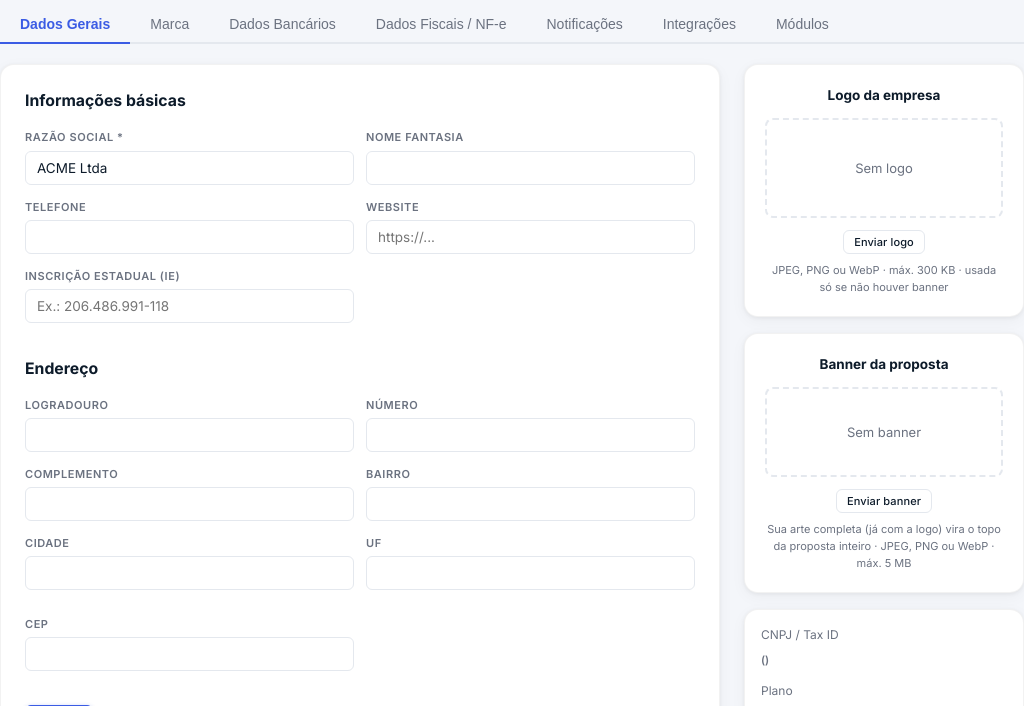
Scenario: CompanyPage — indicador de credencial já configurada + definir como padrão › mostra o indicador "já configurado" pros 3 campos sensíveis, sem vazar o valor mascarado no campo editável
Expected: the field showing "ACME Ltda" below "Razão Social" is shown, [25,150,354,184]
Step 1. Click the button "Dados Bancários" → (282, 25), box [209,6,356,44]
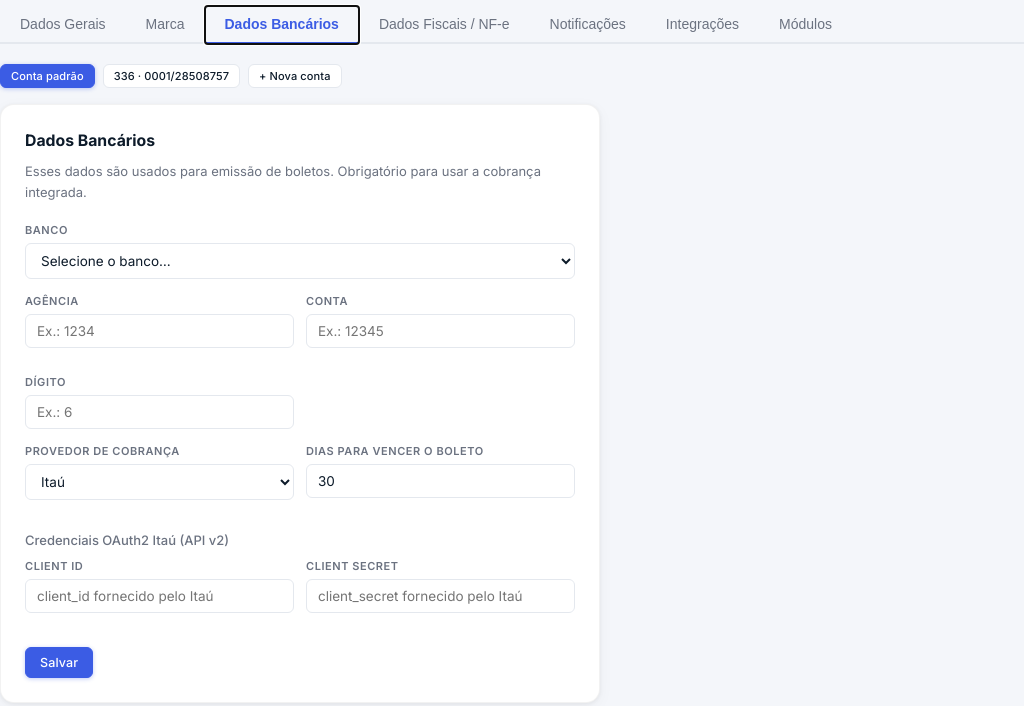
Step 2. Click the button "336 · 0001/28508757" → (171, 76), box [103,64,240,88]
(page scrolled)
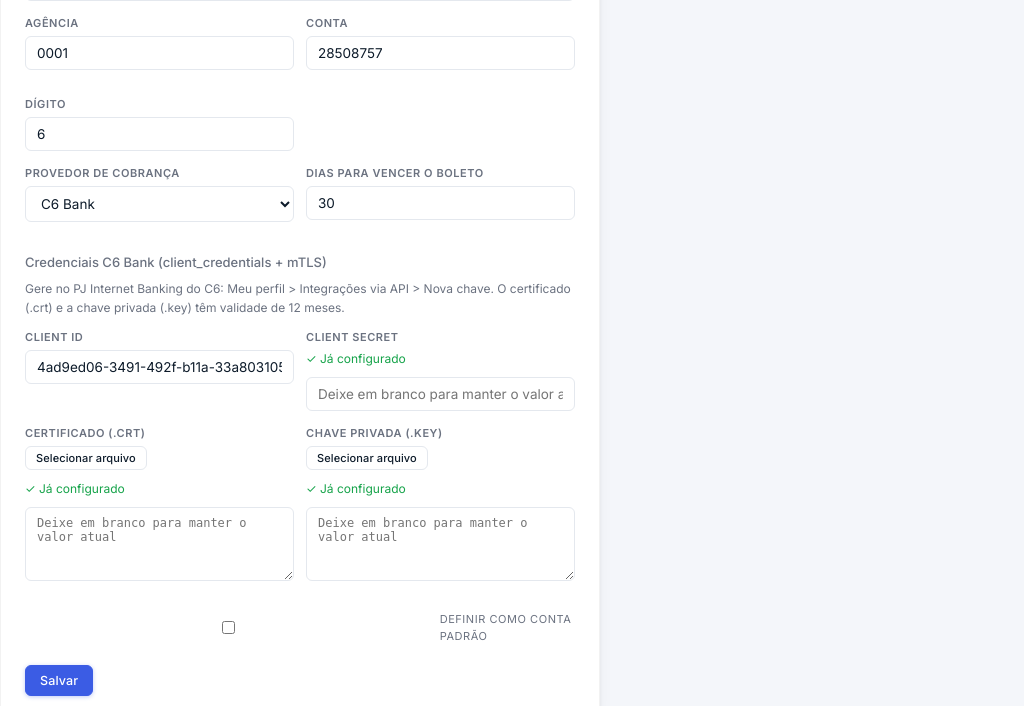
Expected: the text "✓ Já configurado" is shown 3 times, [306,351,406,366]; [25,481,125,496]; [306,481,406,496]
Expected: the field showing "4ad9ed06-3491-492f-b11a-33a803105e21" below "Client ID" is shown, [25,350,294,384]
Expected: the number of password fields with placeholder "Deixe em branco para manter o valor atual" is 3, [306,377,575,411]; [25,507,294,581]; [306,507,575,581]
